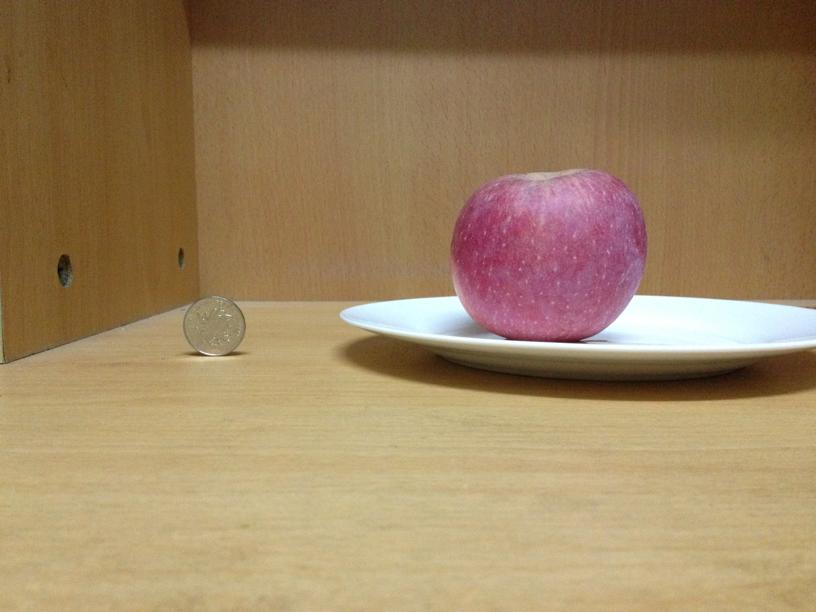apple: (447, 165, 646, 339)
coin: (181, 294, 246, 356)
